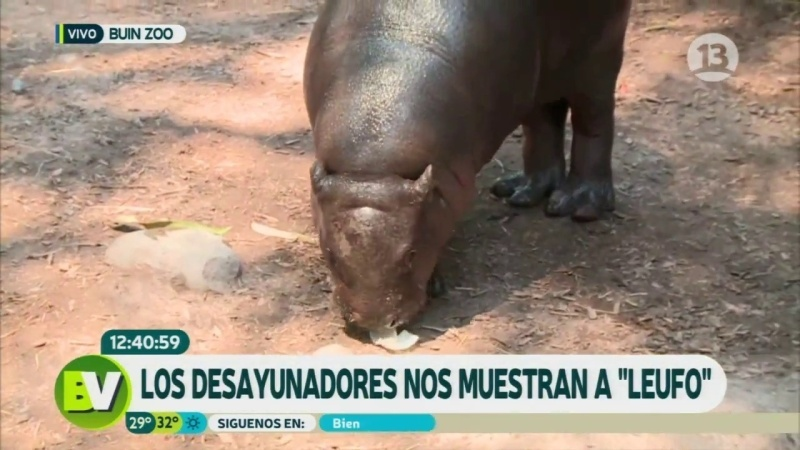hipopotamo: (264, 2, 647, 353)
